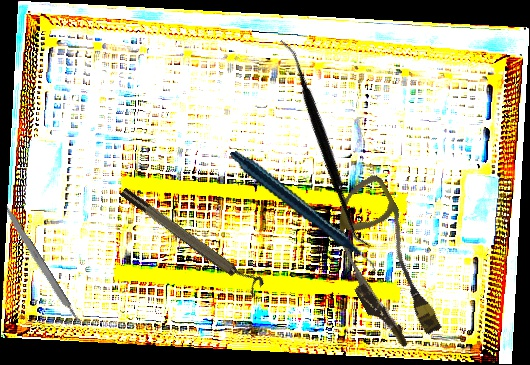Cannula: (309, 172, 460, 356)
Fixation Ring: (118, 179, 266, 299)
Handpiece: (229, 124, 377, 303)
Scalpel Handle: (0, 203, 82, 326)
Spatula Surgical: (212, 37, 439, 250)
